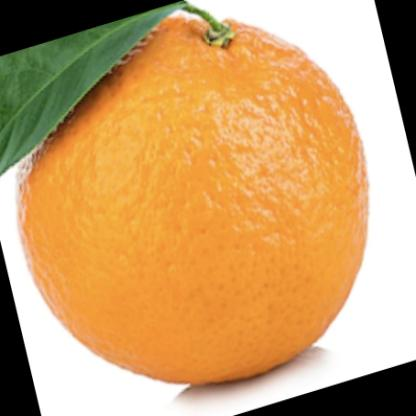fresh: (13, 19, 369, 383)
